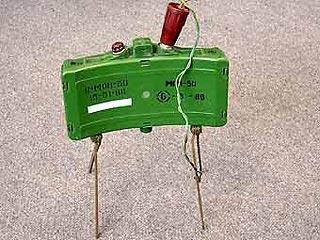MON 50: (61, 38, 229, 141)
